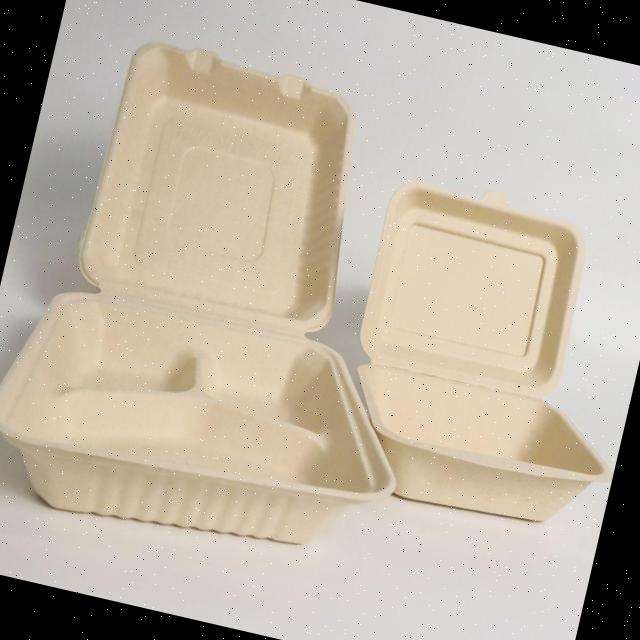styrofoam: (0, 17, 482, 581), (321, 167, 640, 542)
